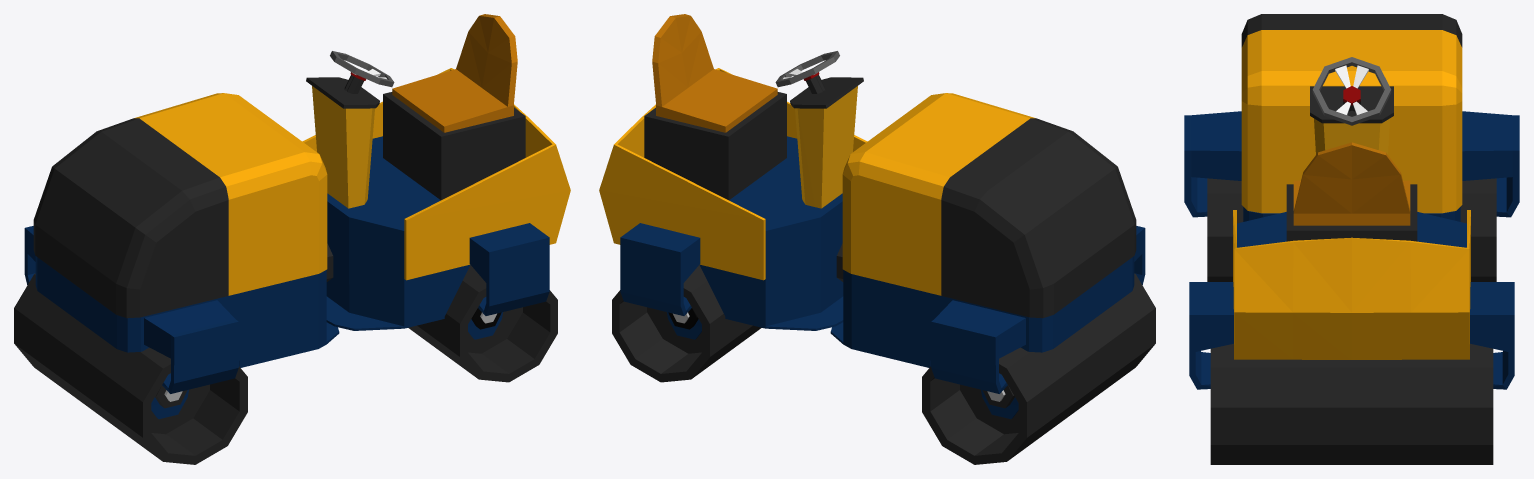
The model's file is carrito.fbx.
3 renders of one model, left to right at view 1: azimuth 30°, elevation 25°; view 2: azimuth 150°, elevation 25°; view 3: azimuth 270°, elevation 25°, orthographic. The views are drawn at different scales.
Visible parts, largest first — view 1: Roller; view 2: Roller; view 3: Roller.
Boxes of the visible parts, x1,y1,x2,y2 form: Roller: (14, 14, 570, 464); Roller: (599, 14, 1155, 464); Roller: (1184, 14, 1519, 464).
Size of the model in its own units: 258 by 173 by 151.
Materials: 1 (1 with a texture image).
